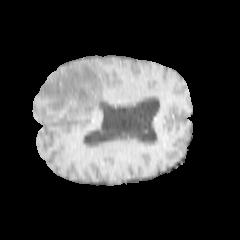glioma: (39, 62, 107, 129)
